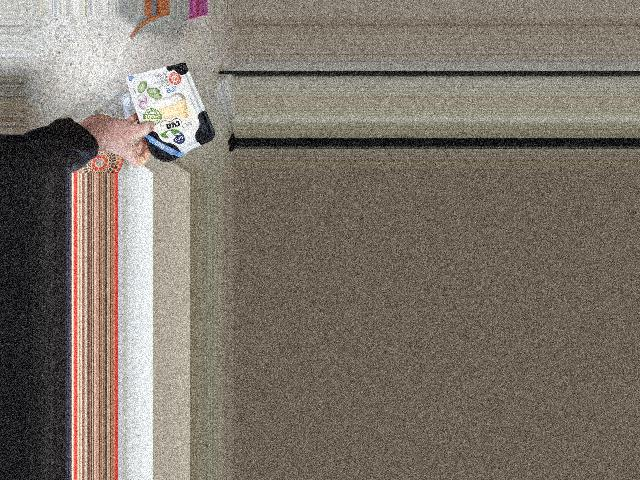cheese: (140, 63, 208, 165)
